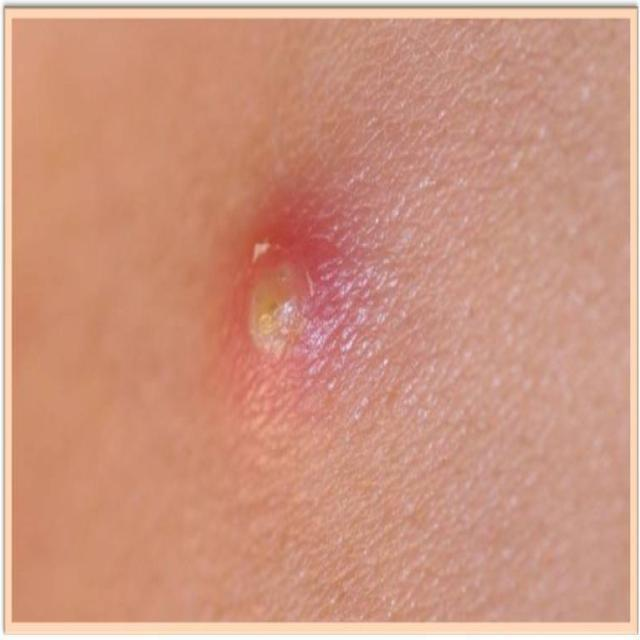pustule: (216, 202, 344, 380)
